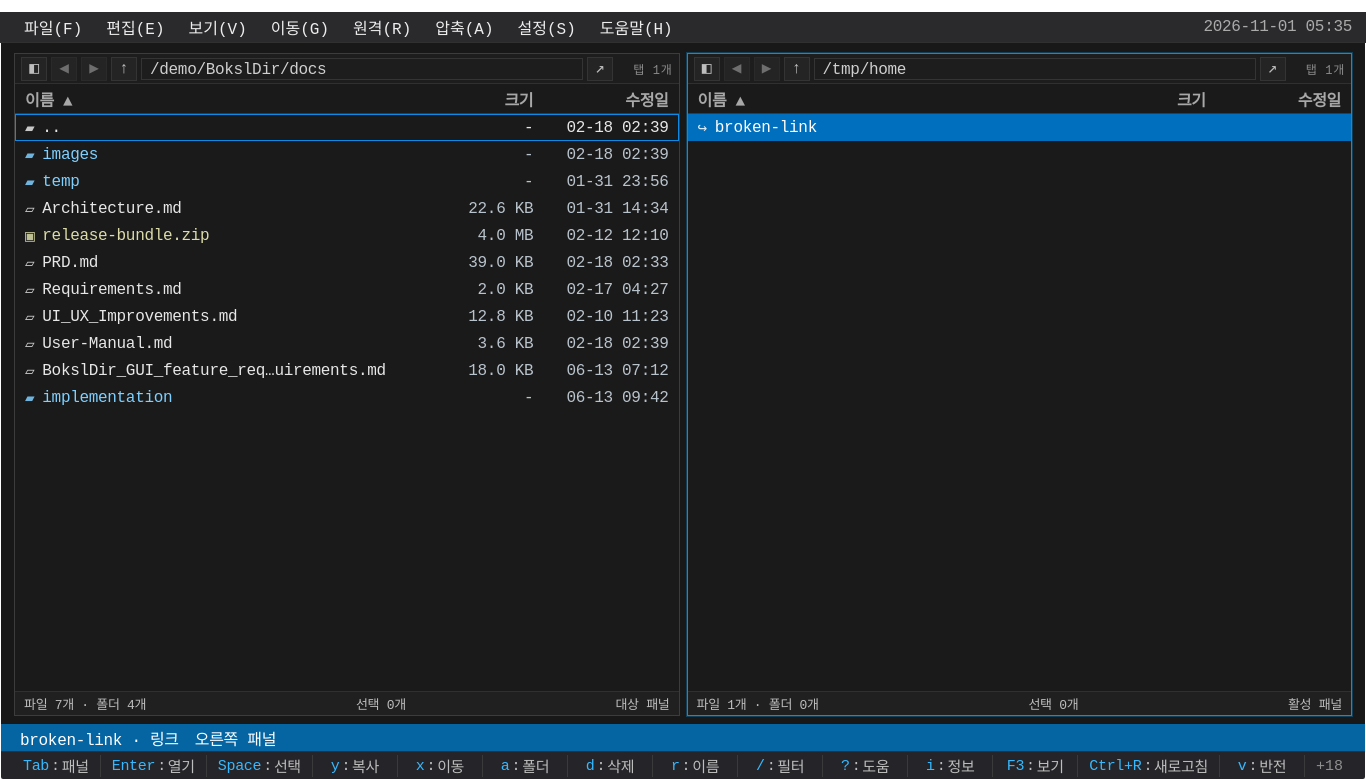
Test: CommanderShell rendering › reports a broken directory link without launching Finder
Double-click the row with class "file-row" showing "↪ broken-link".
double_click(1019, 128)  # box [688,114,1351,141]
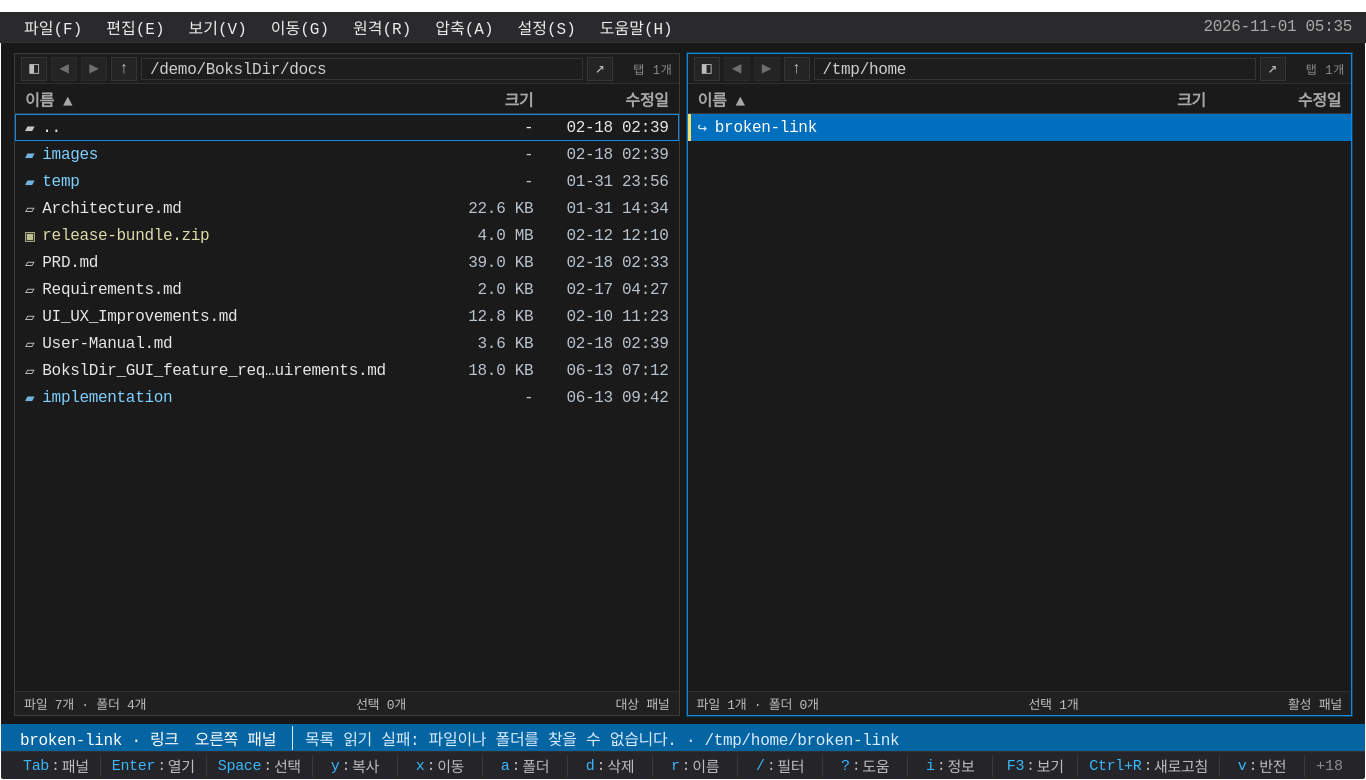
Result: the footer named "활성 패널 상태" shows "목록 읽기 실패" at [305,732,899,750]
